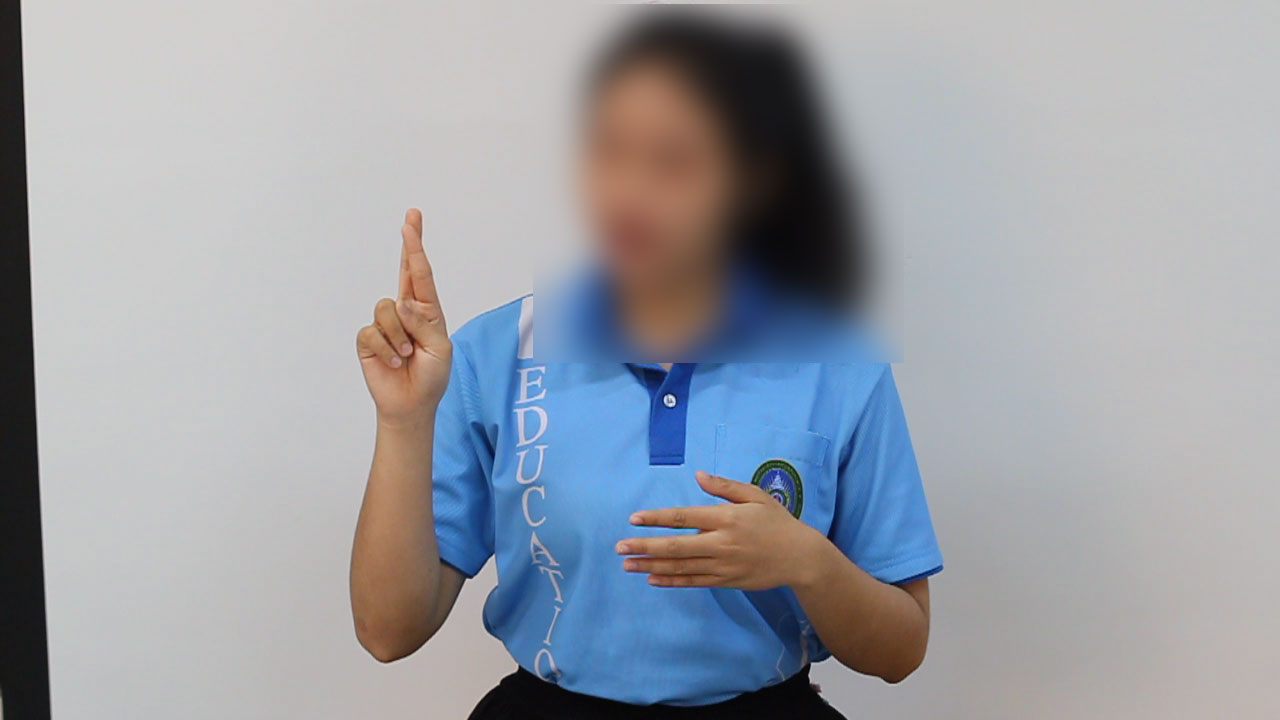rao: (338, 199, 470, 423)
